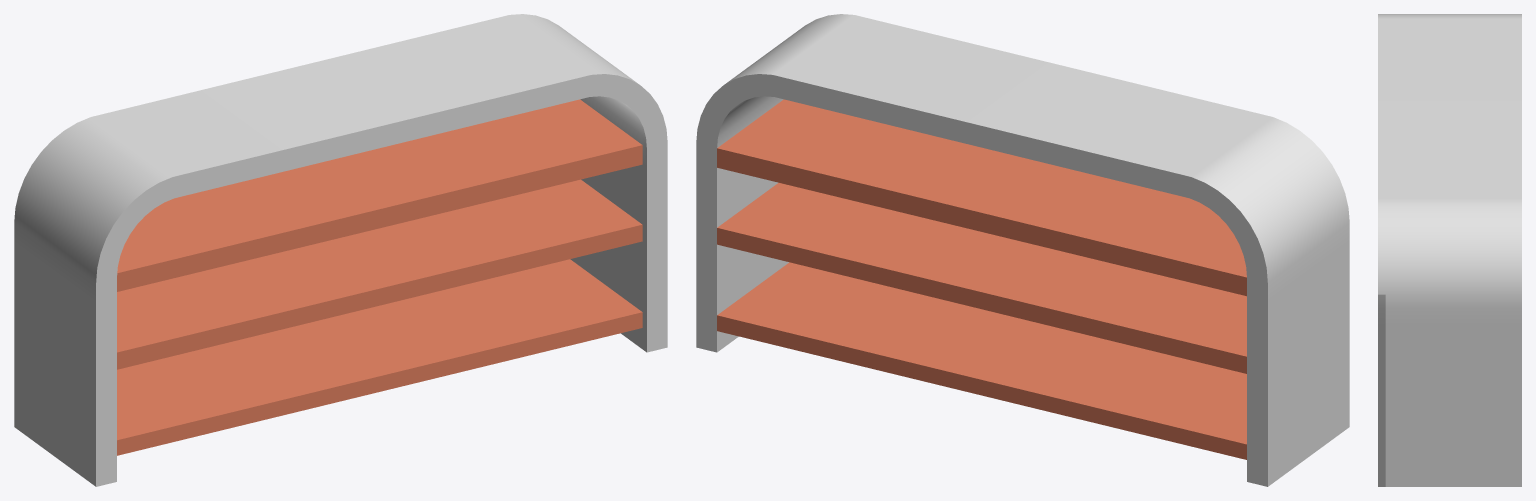
File: LobbyShelf.fbx
The picture shows the model from 3 angles, left to right: view 1: azimuth 30°, elevation 25°; view 2: azimuth 150°, elevation 25°; view 3: azimuth 270°, elevation 25°; orthographic projection. The views are drawn at different scales.
Parts seen in each view (by area): view 1: Shelf; view 2: Shelf; view 3: Shelf.
Boxes of the visible parts, x1=… form: Shelf: x1=14, y1=14, x2=667, y2=486; Shelf: x1=696, y1=14, x2=1349, y2=486; Shelf: x1=1378, y1=14, x2=1521, y2=486.
Size of the model in its own units: 50.52 by 24.6 by 12.54.
